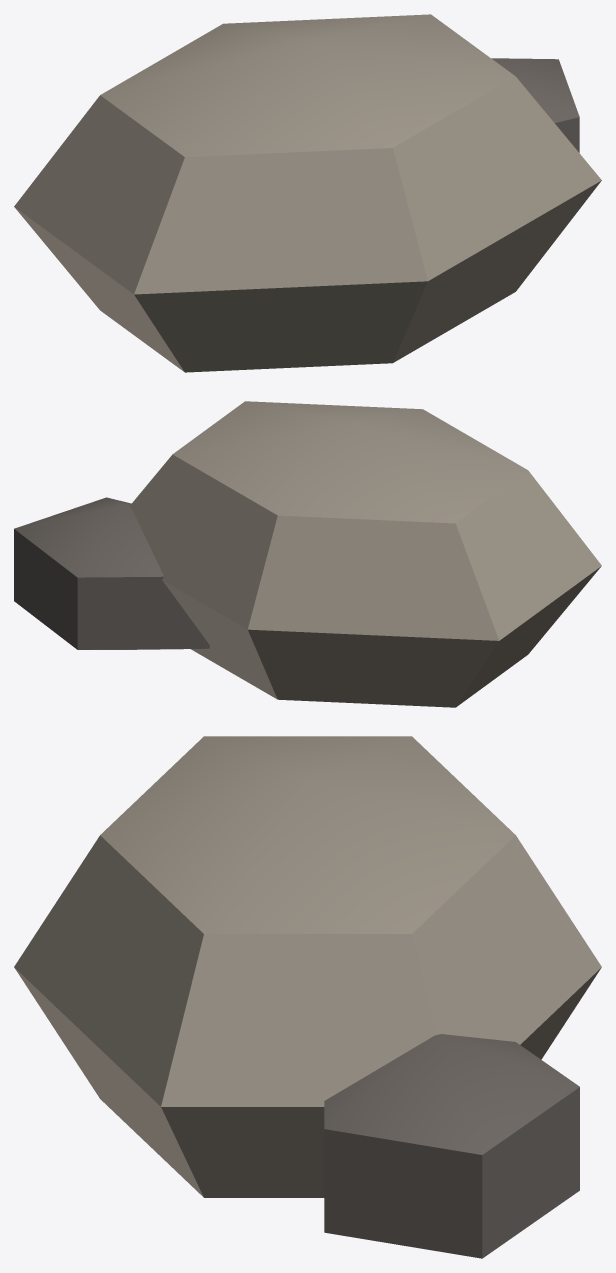
The model's file is PR_Nature_Kaya1.fbx.
3 views of the same model, one above another, from view 1: azimuth 30°, elevation 25°; view 2: azimuth 150°, elevation 25°; view 3: azimuth 270°, elevation 25° (orthographic). The views are drawn at different scales.
Parts seen in each view (by area): view 1: PR_Nature_Kaya1; view 2: PR_Nature_Kaya1; view 3: PR_Nature_Kaya1.
Boxes of the visible parts, x1=… form: PR_Nature_Kaya1: x1=14, y1=14, x2=601, y2=372; PR_Nature_Kaya1: x1=14, y1=401, x2=601, y2=707; PR_Nature_Kaya1: x1=14, y1=736, x2=601, y2=1258.
Size of the model in its own units: 1.2 by 0.63 by 0.9.
Materials: 1 (1 with a texture image).
